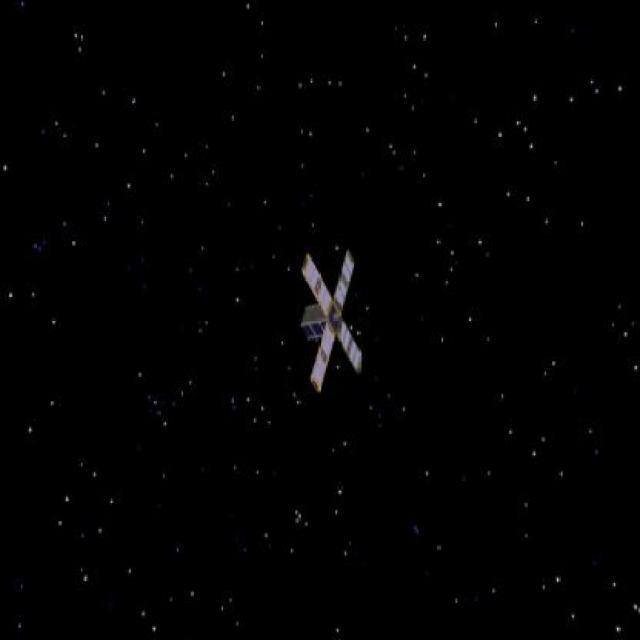satellite: (288, 246, 379, 396)
